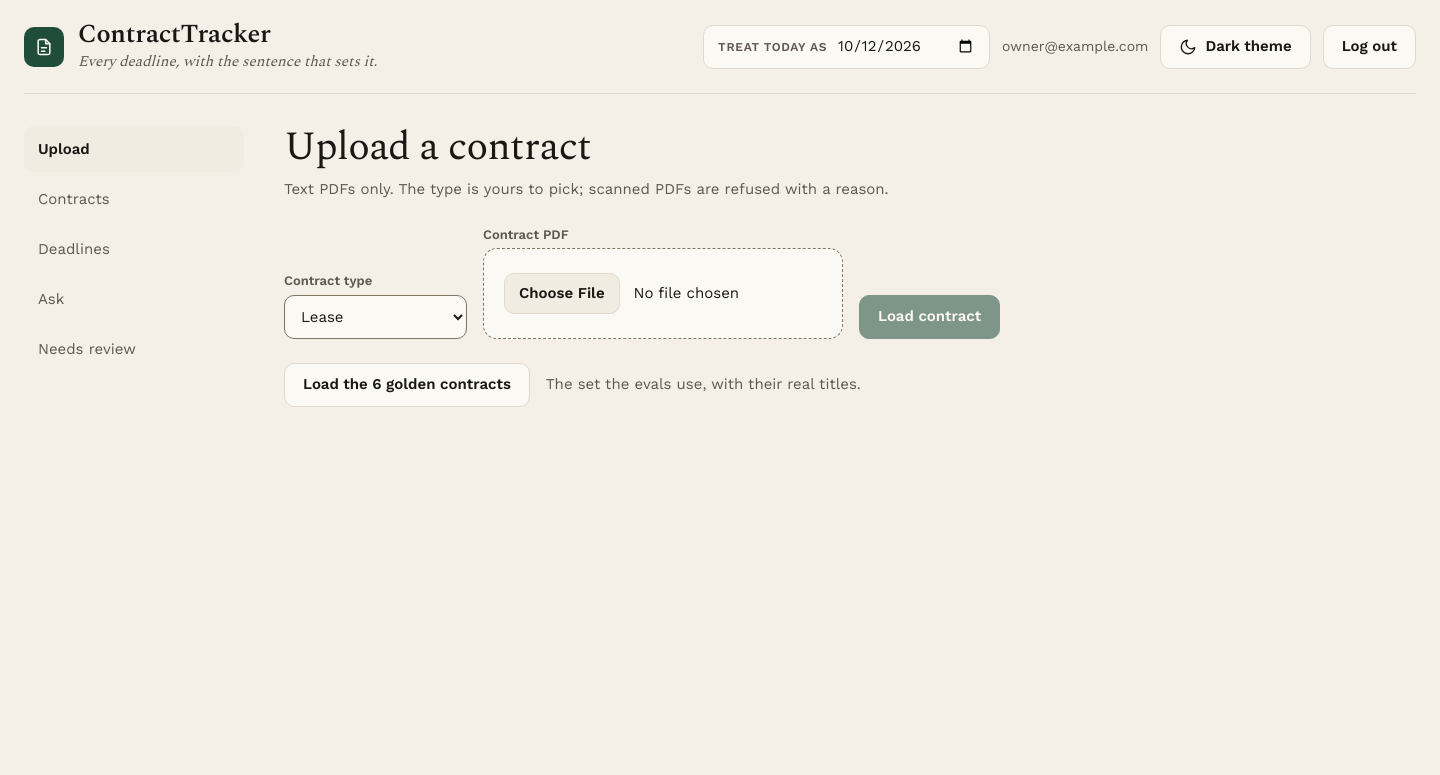
Test: the page › disables Extract fields while it runs so an uncached contract is not paid for twice
This screenshot has width=1440, height=775.
Expected: the tab "Upload" is shown, top-left (24, 126), bottom-right (244, 172)
Click the tab "Contracts": x=134, y=199 top-left (24, 176), bottom-right (244, 222)
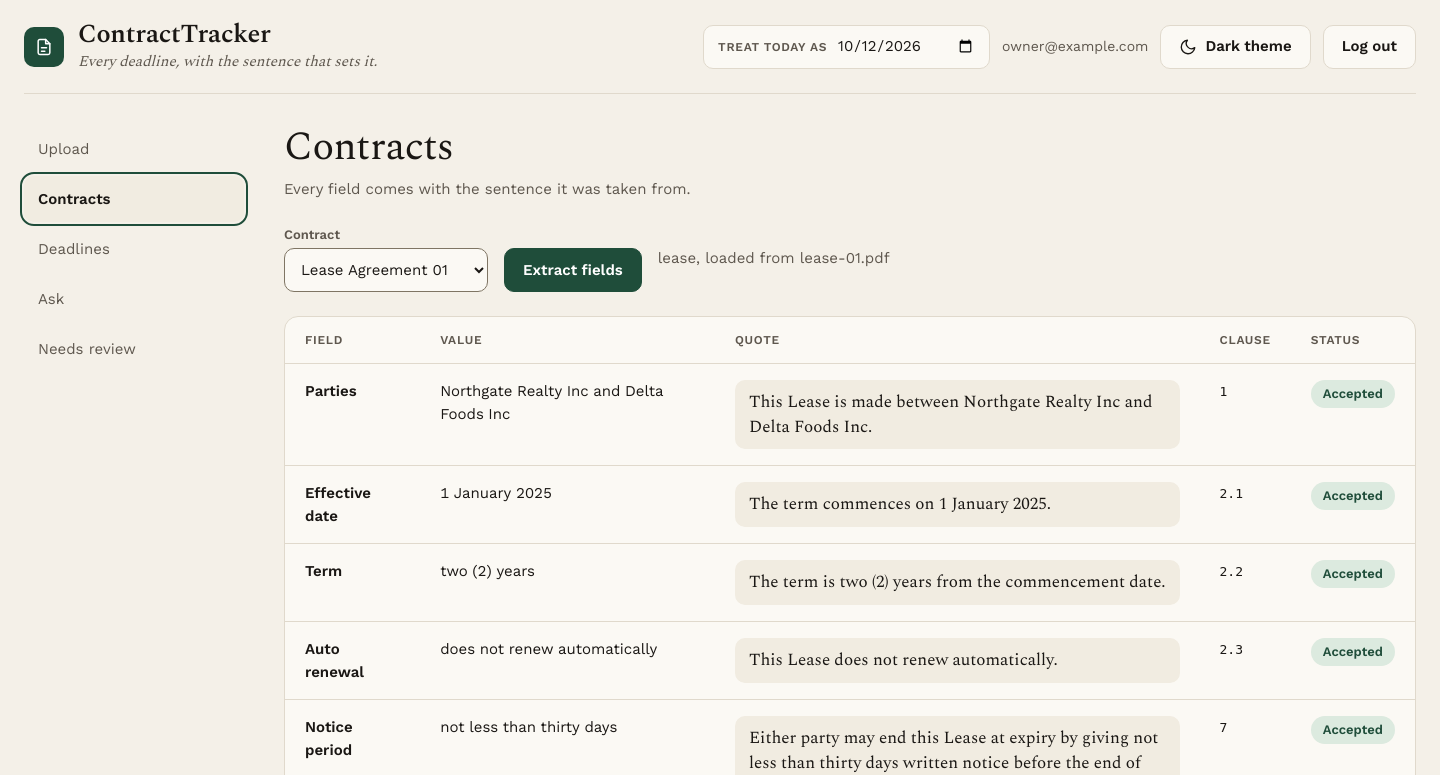
Click the button "Extract fields": x=573, y=270 top-left (504, 248), bottom-right (642, 292)
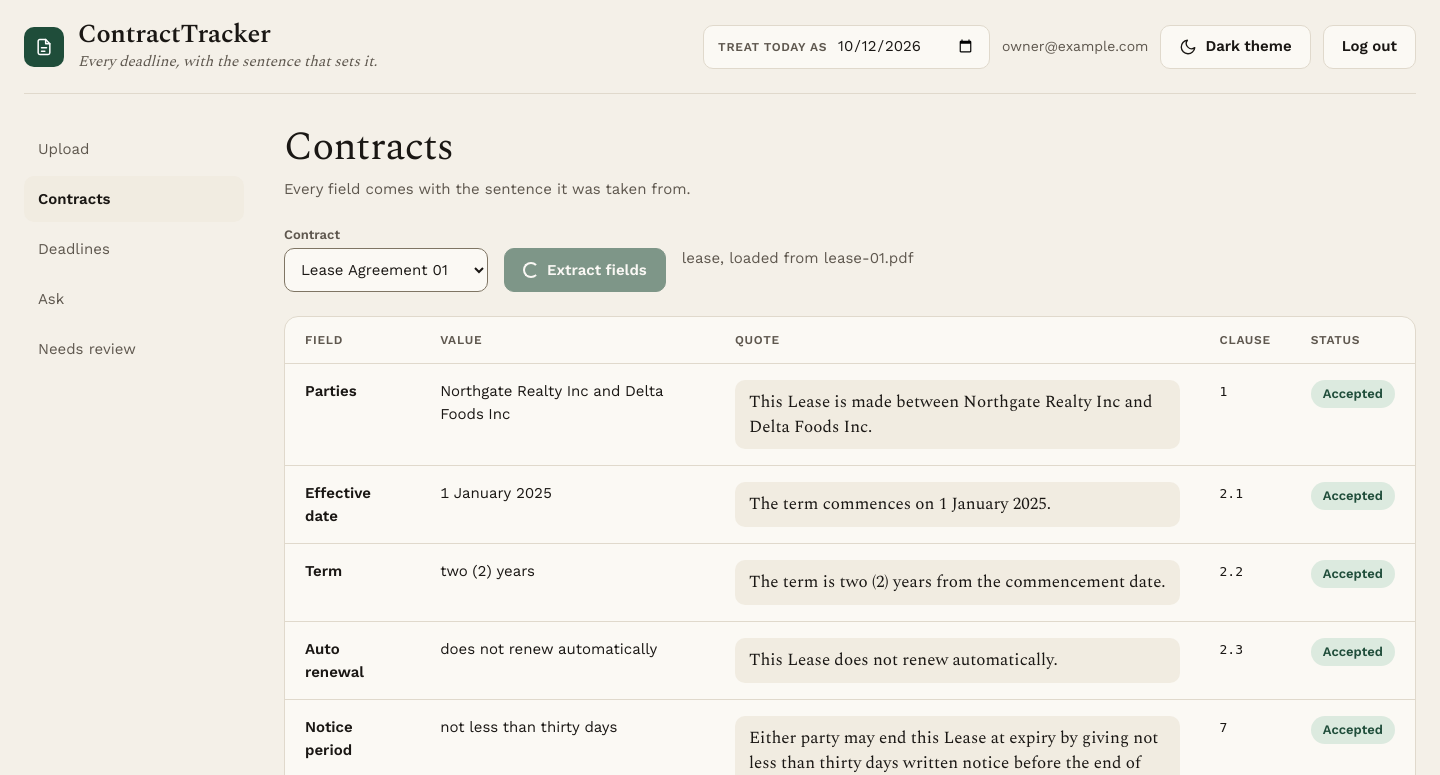
Click the button "Extract fields": x=585, y=270 top-left (504, 248), bottom-right (666, 292)
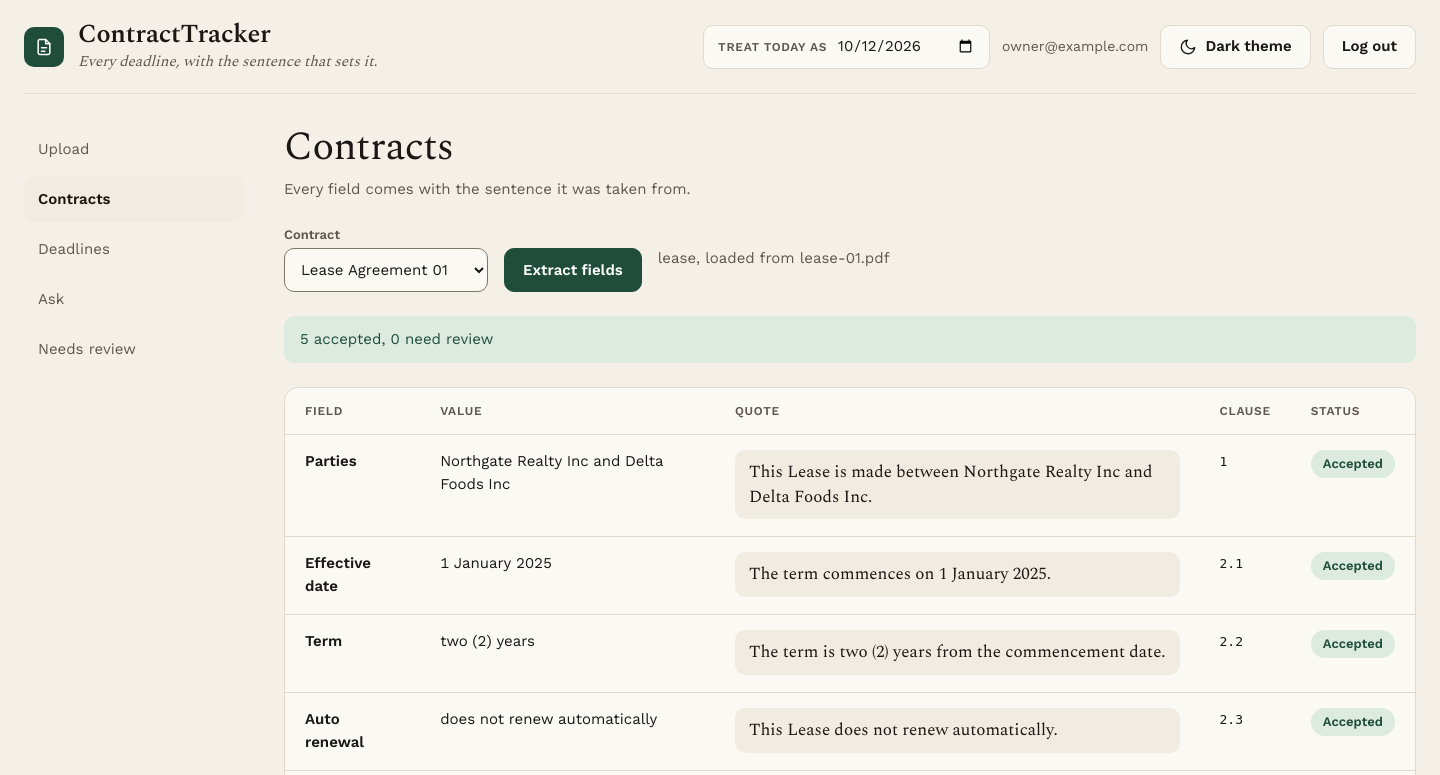
Now the message "5 accepted, 0 need review" is shown, box top-left (284, 316), bottom-right (1416, 363)
